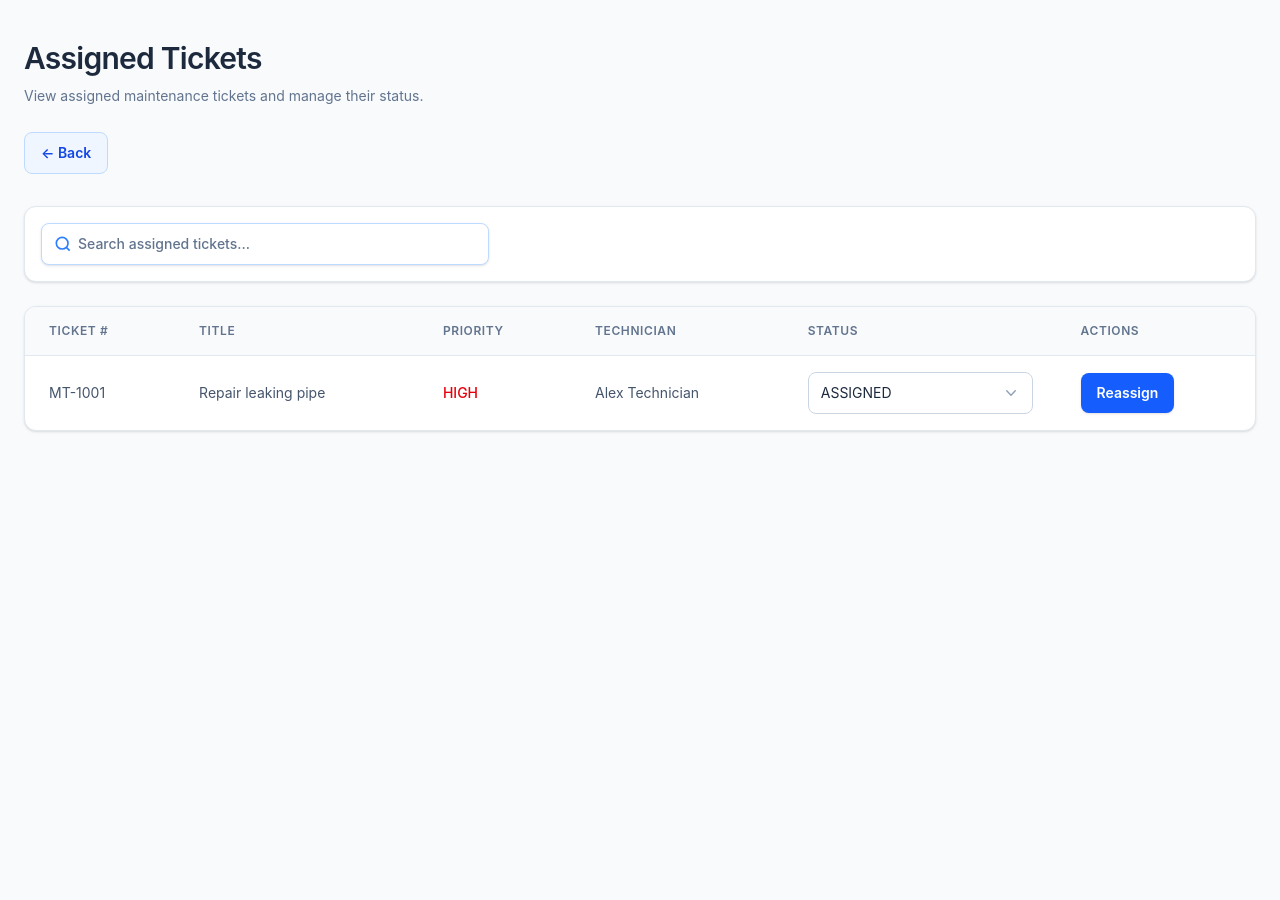
AssignedTickets page › opens an admin reassign modal with the current technician selected and updates the row
Click the button "Reassign". click: [1128, 393]
box: top-left (1081, 373), bottom-right (1174, 413)
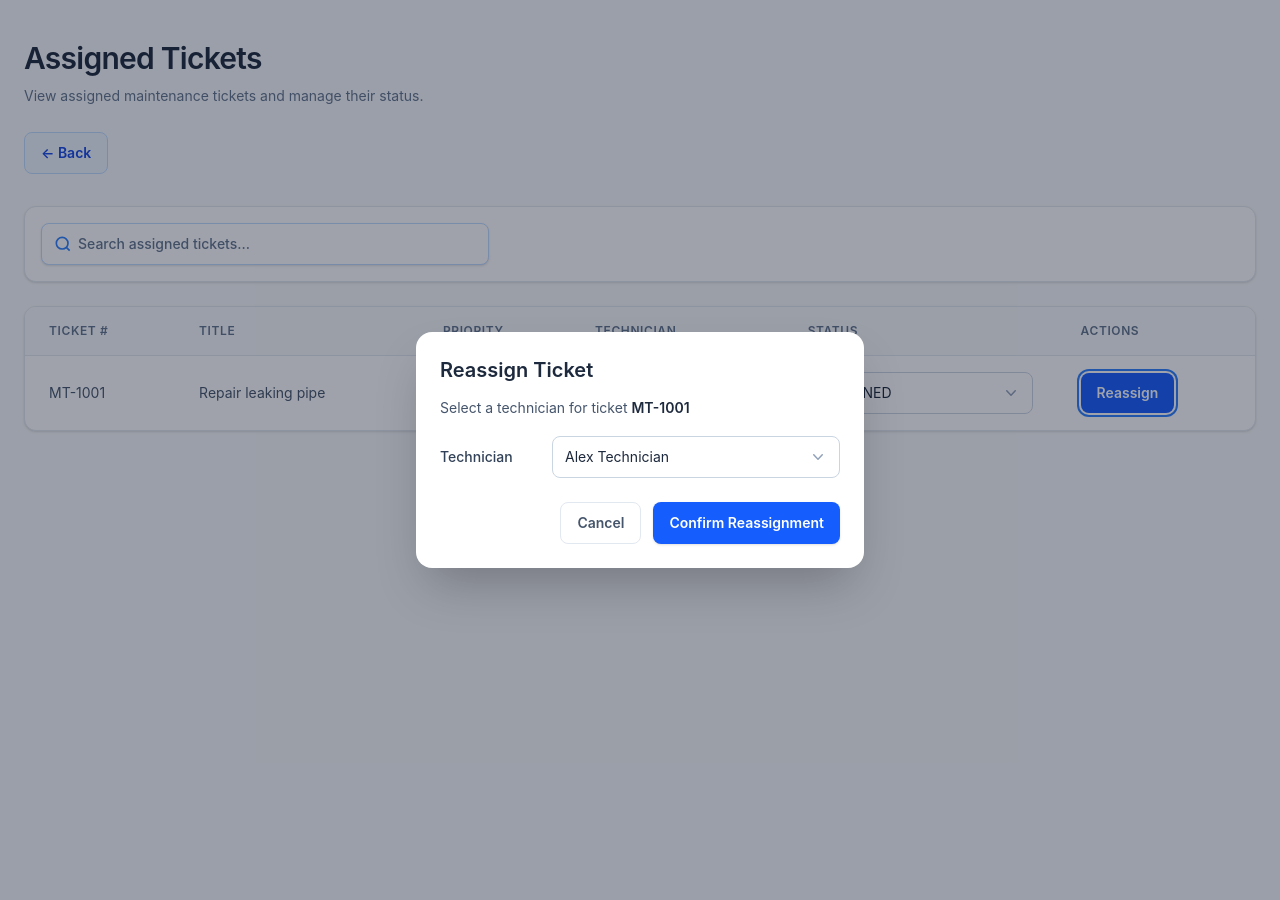
Expected: the dropdown labelled "Technician" shows "Alex Technician"
Select "Sam Technician" in the dropdown labelled "Technician". click: [696, 457]
box: top-left (552, 436), bottom-right (840, 478)
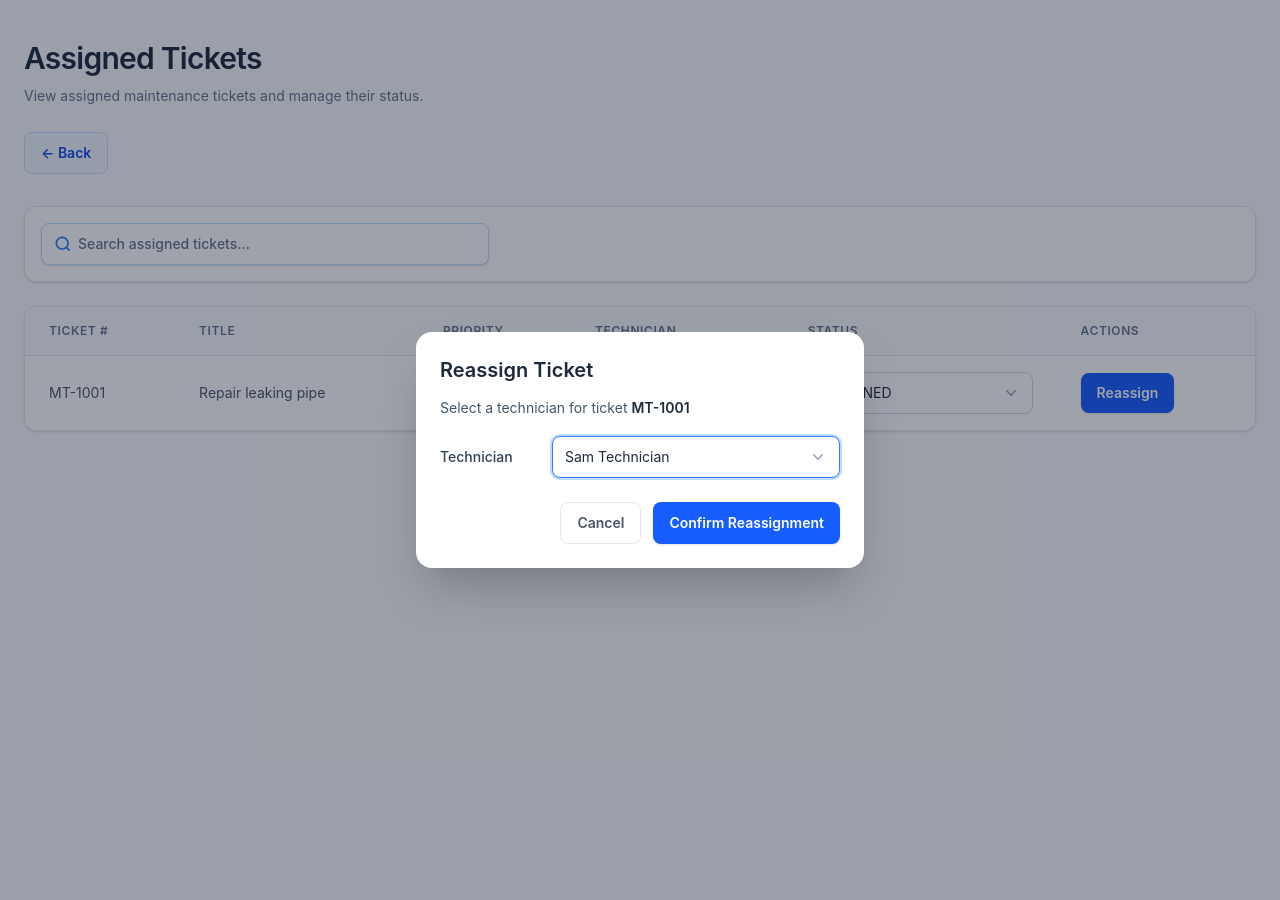
Click the button "Confirm Reassignment". click: [747, 523]
box: top-left (653, 502), bottom-right (840, 544)
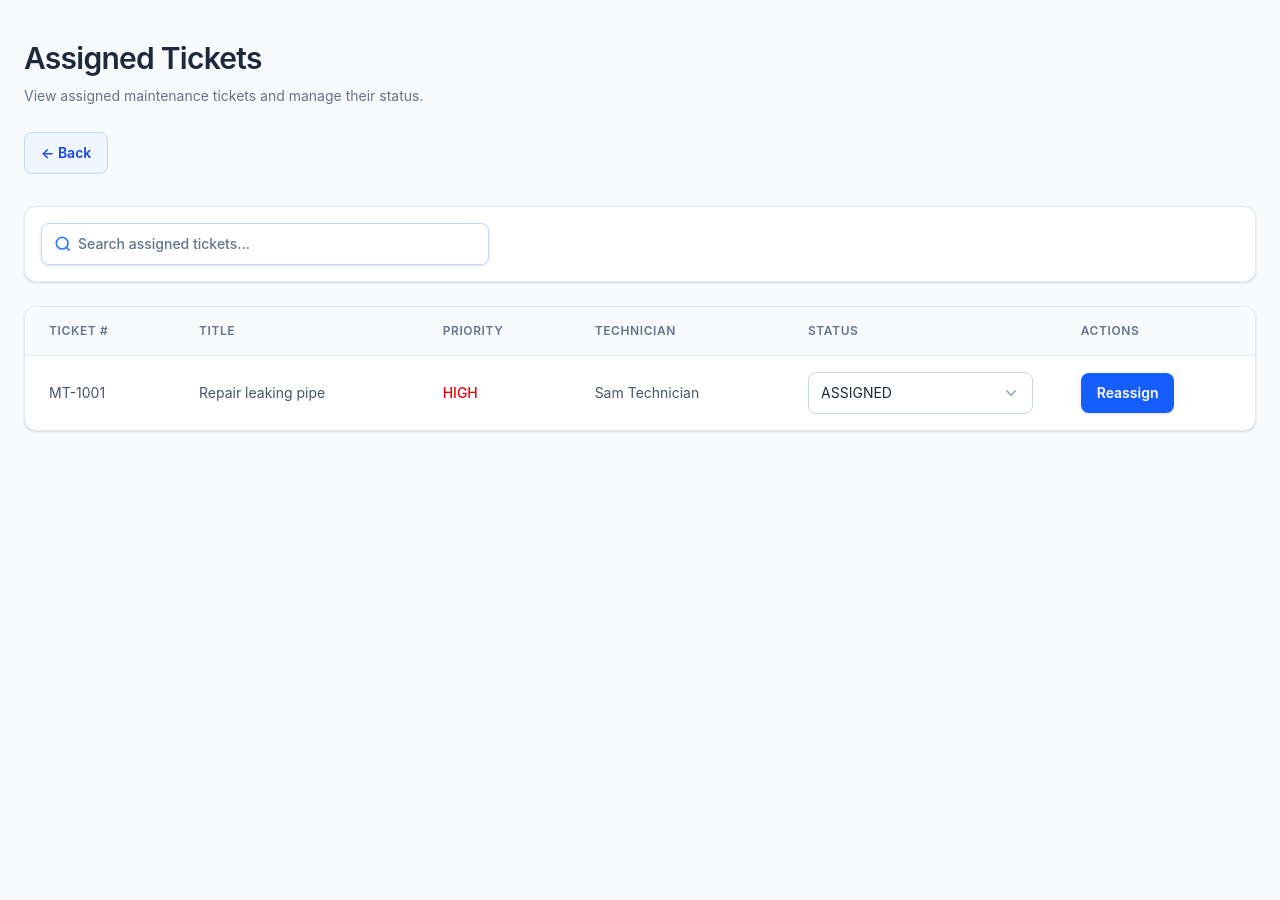
Expected: the text "Sam Technician" is shown, top-left (571, 356), bottom-right (784, 430)
Expected: the heading "Reassign Ticket" is gone
